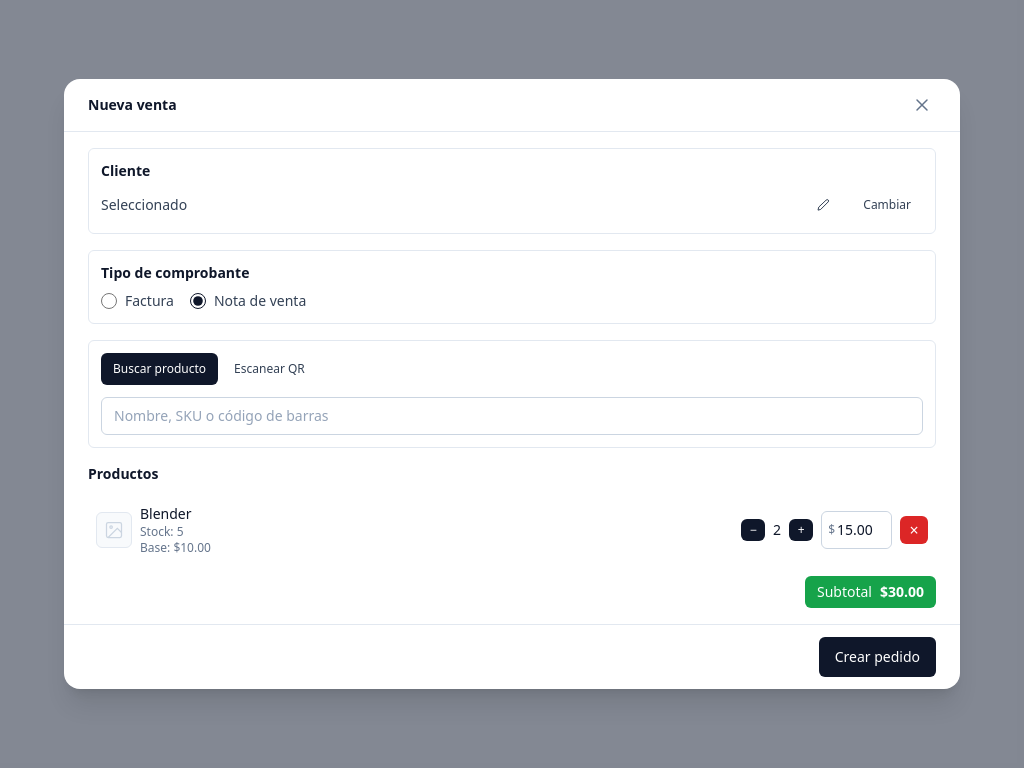
ProductCartModal › photo preview (same click-the-photo summary as /products) › clicking the line photo opens the product summary (description, category, link to the product)
This screenshot has width=1024, height=768.
Click the button named "Ver foto y resumen de Blender" at coordinates (114, 530), box [96,512,132,548]
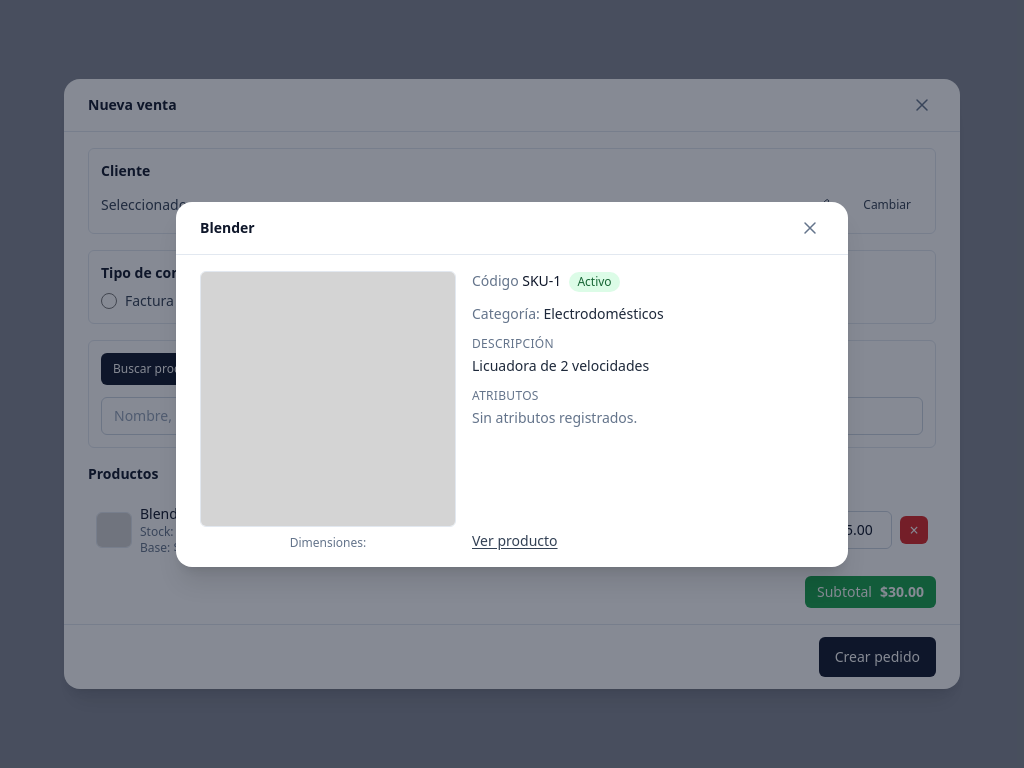
Expected: the dialog "Blender" is shown, [176,202,848,566]
Expected: the text "Licuadora de 2 velocidades" is shown, [472,356,649,374]
Expected: the text "Electrodomésticos" is shown, [543,304,664,322]
